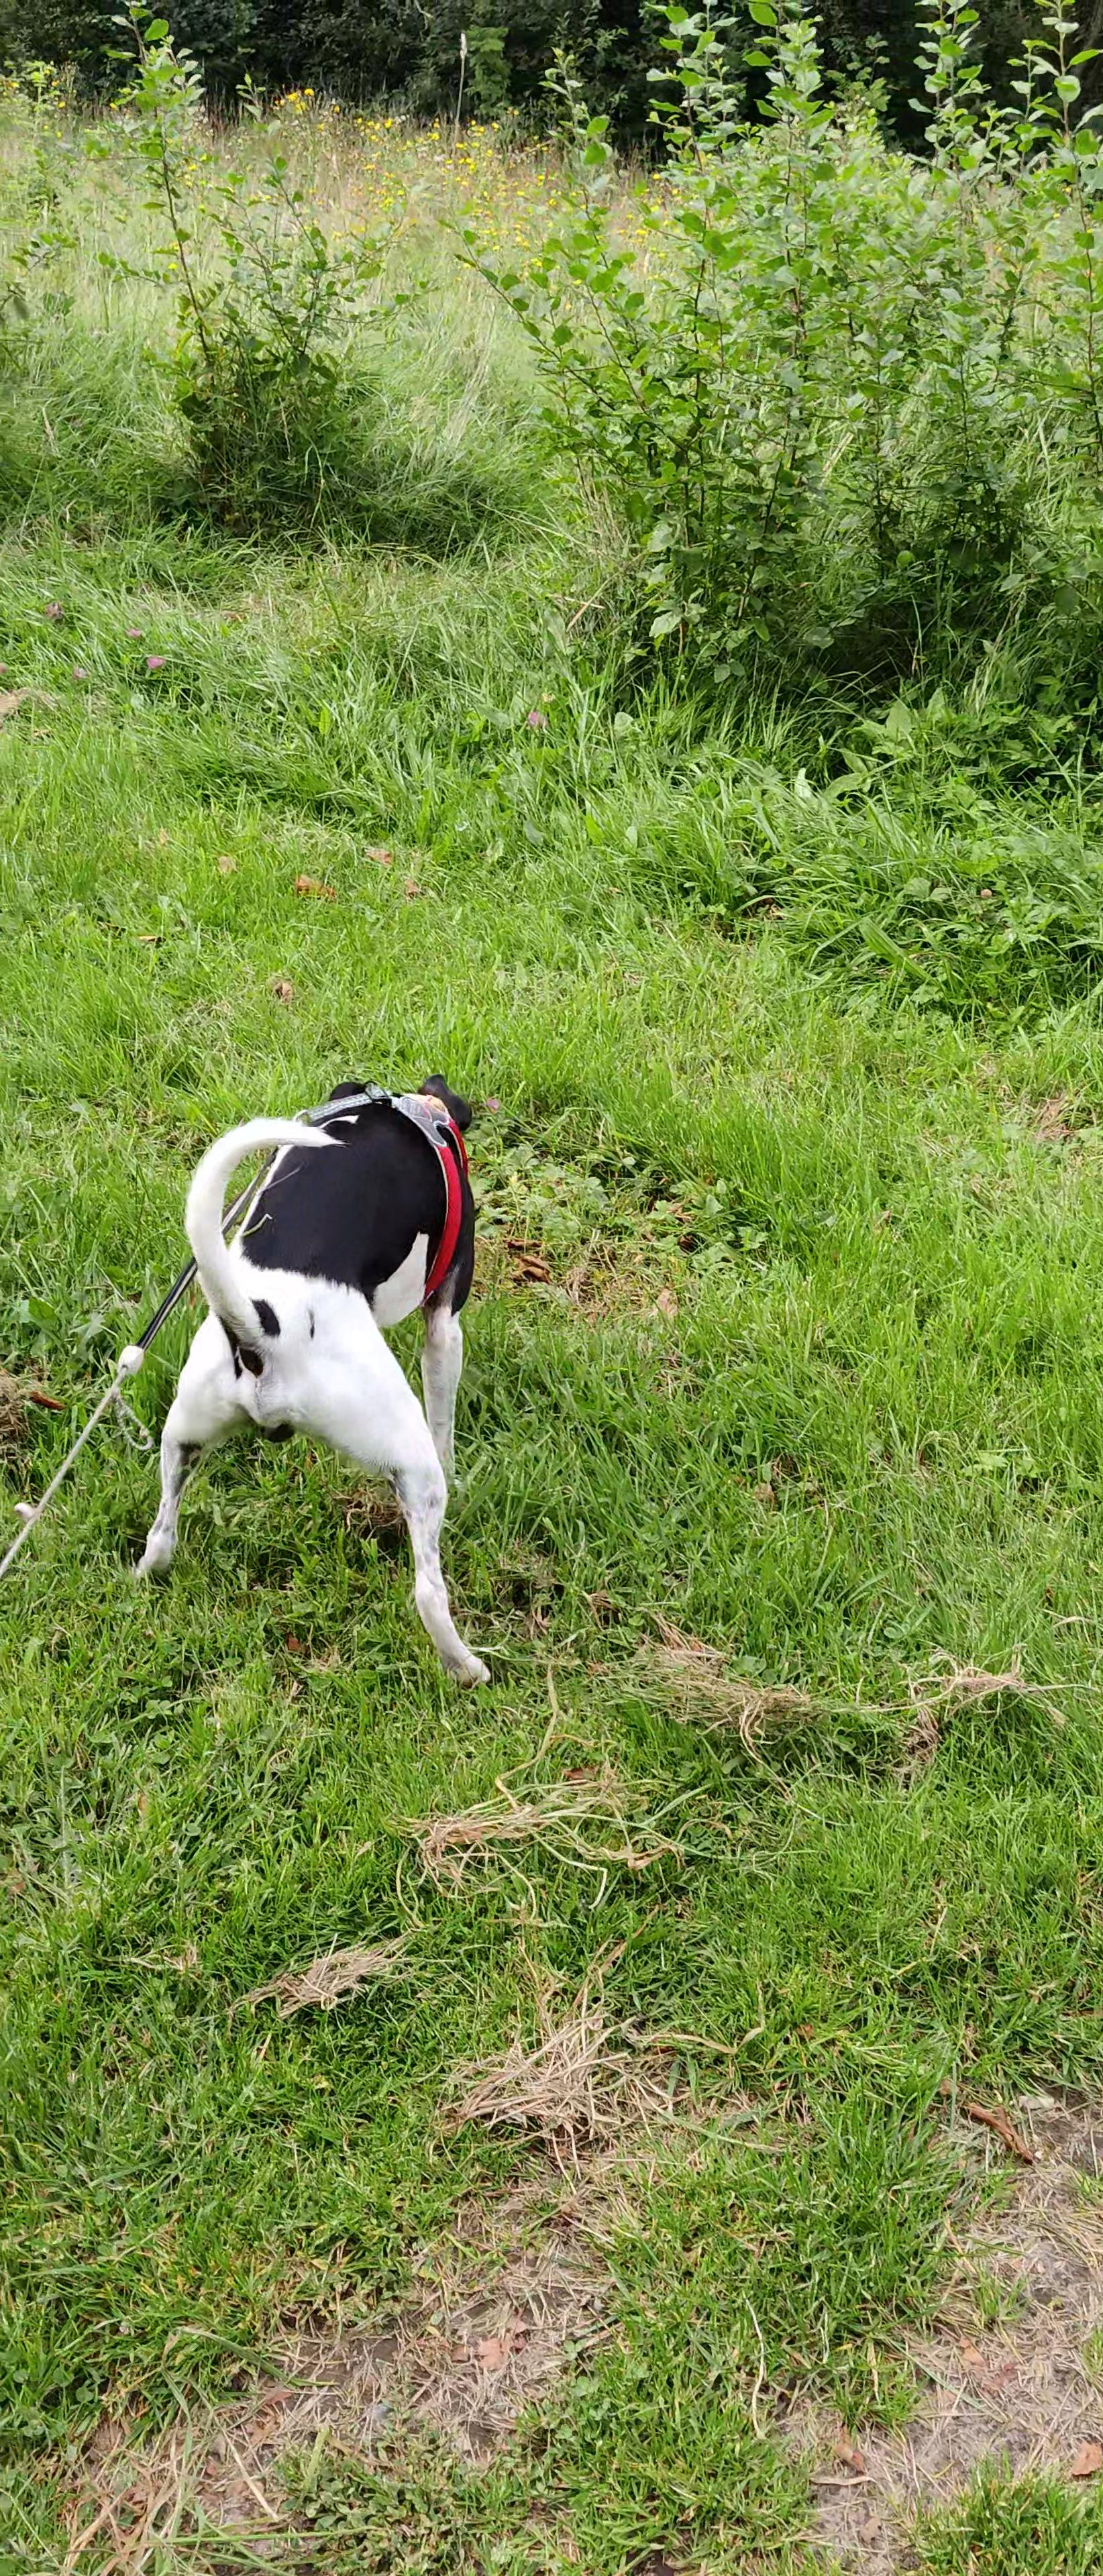Dog: (118, 1060, 518, 1694)
